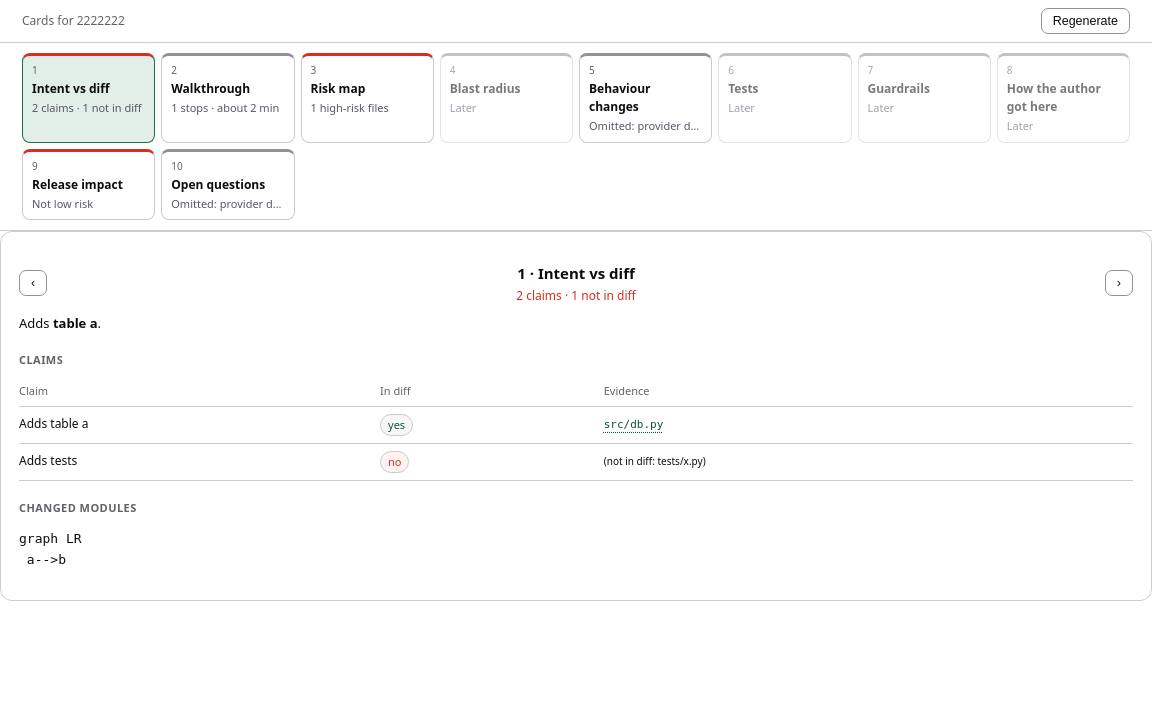
it: explains omitted and later cards, shows the release verdict, and regenerates on request
What coordinates should you click on to do the following:
click the tab "4 Blast radius Later"
I would click on:
 (506, 98)
Its box is x1=440 y1=53 x2=573 y2=142.
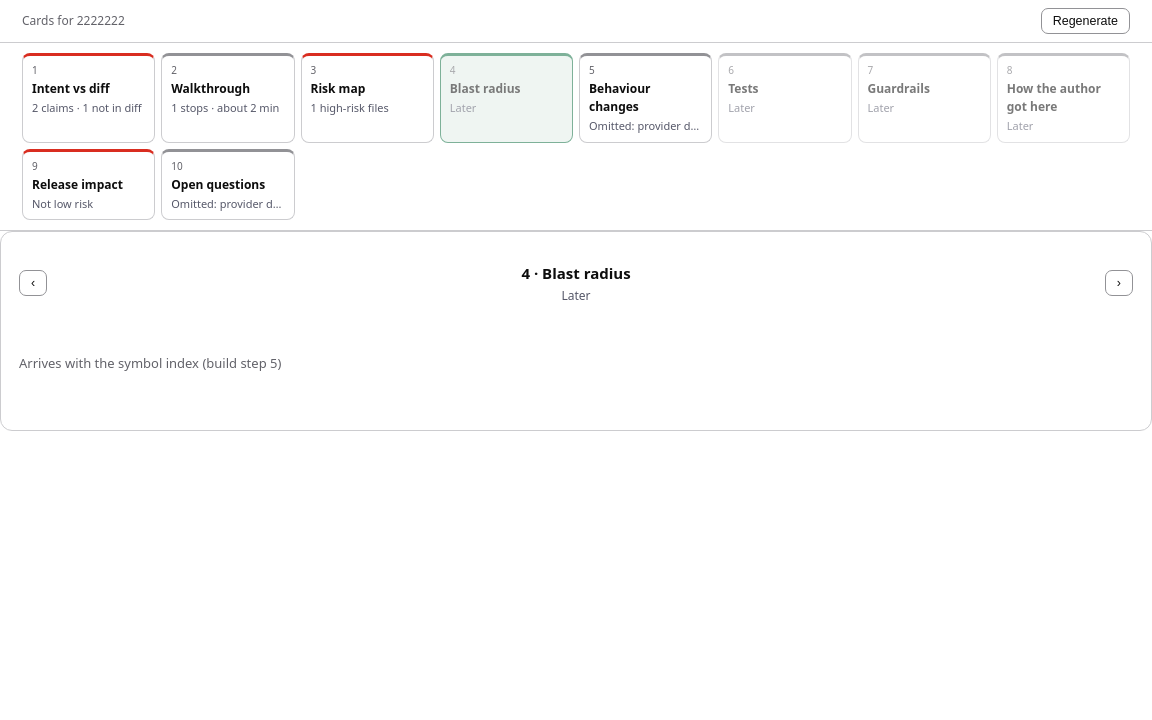
Expected: the panel named "4 Blast radius" shows "Arrives with the symbol index", x1=19 y1=354 x2=281 y2=372
What coordinates should you click on to do the following:
click the tab "9 Release impact Not low risk"
I would click on:
 (89, 184)
Its box is x1=22 y1=148 x2=155 y2=220.
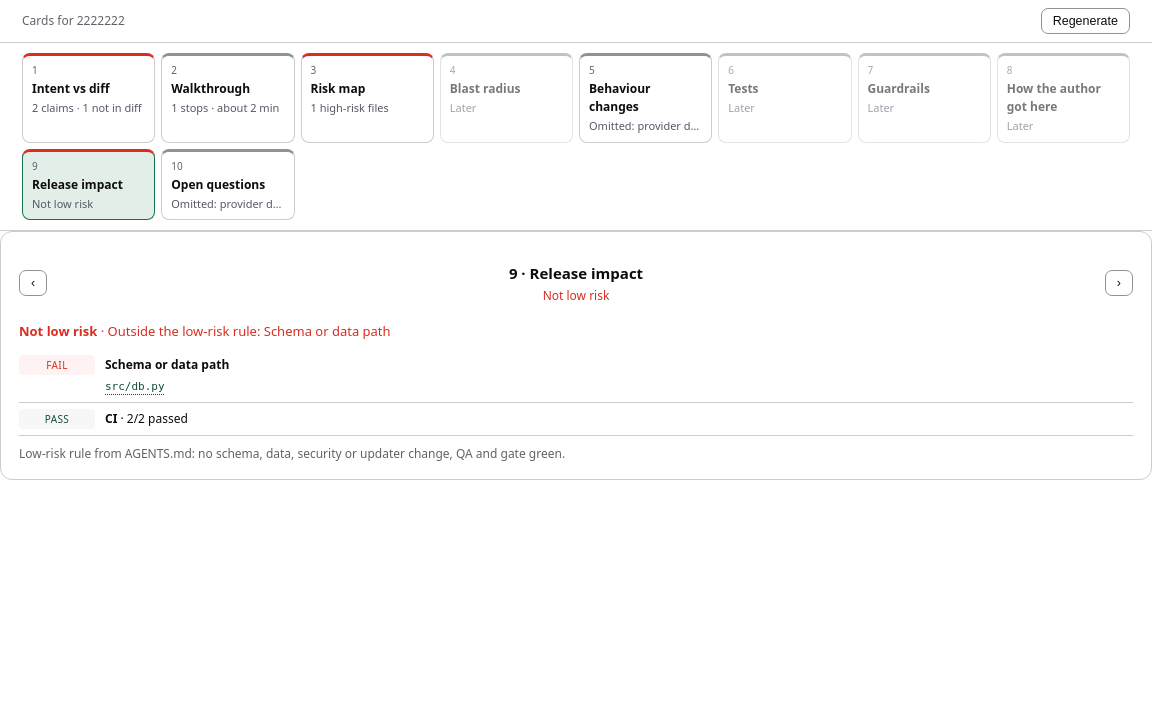
Expected: the text "fail" is shown, x1=19 y1=355 x2=95 y2=375
What coordinates should you click on to do the following:
click the tab "10 Open questions Omitted: provider down"
I would click on:
 (228, 184)
Its box is x1=161 y1=148 x2=295 y2=220.
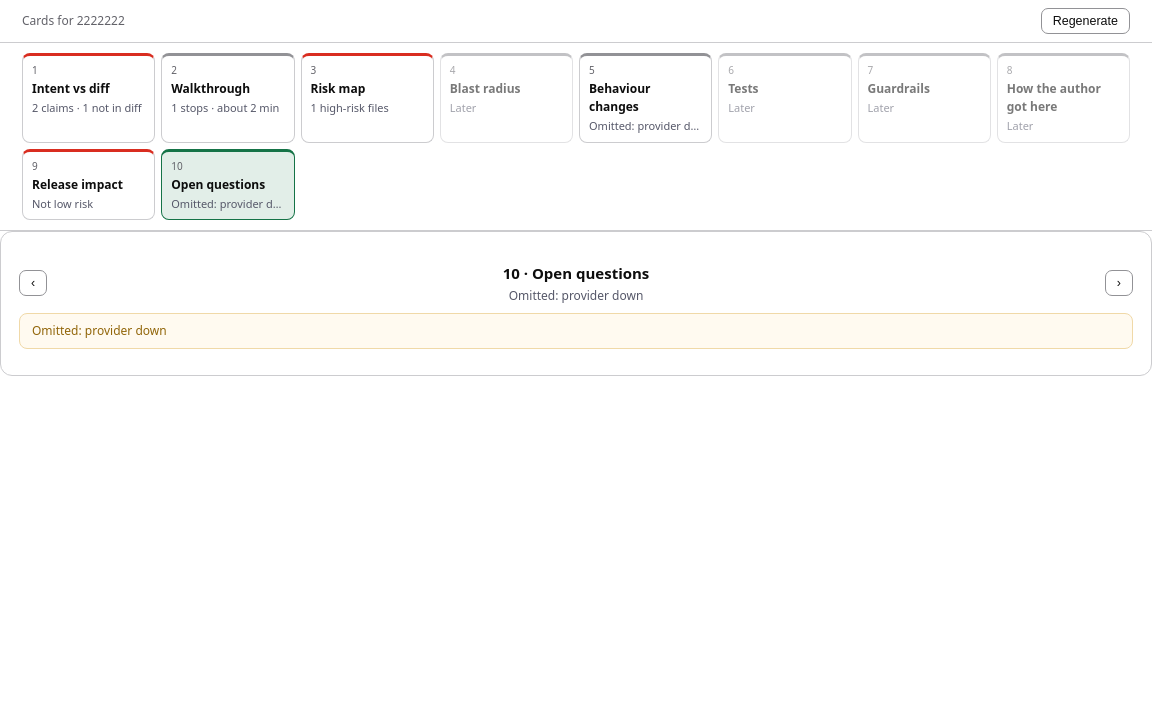
Expected: the panel named "10 Open questions" shows "Omitted: provider down", x1=509 y1=286 x2=643 y2=304
What coordinates should you click on to do the following:
click the button "Regenerate"
I would click on:
 (1085, 21)
Its box is x1=1041 y1=8 x2=1130 y2=34.
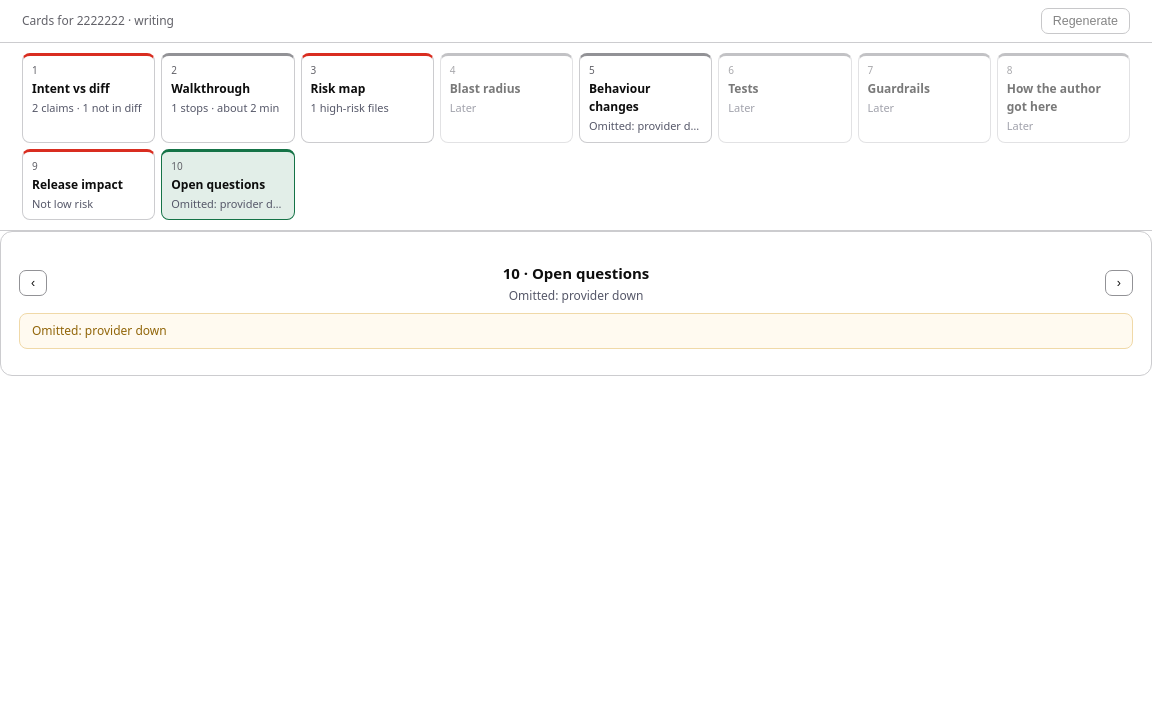
Expected: the text "Cards for 2222222 · writing" is shown, x1=22 y1=12 x2=174 y2=30
